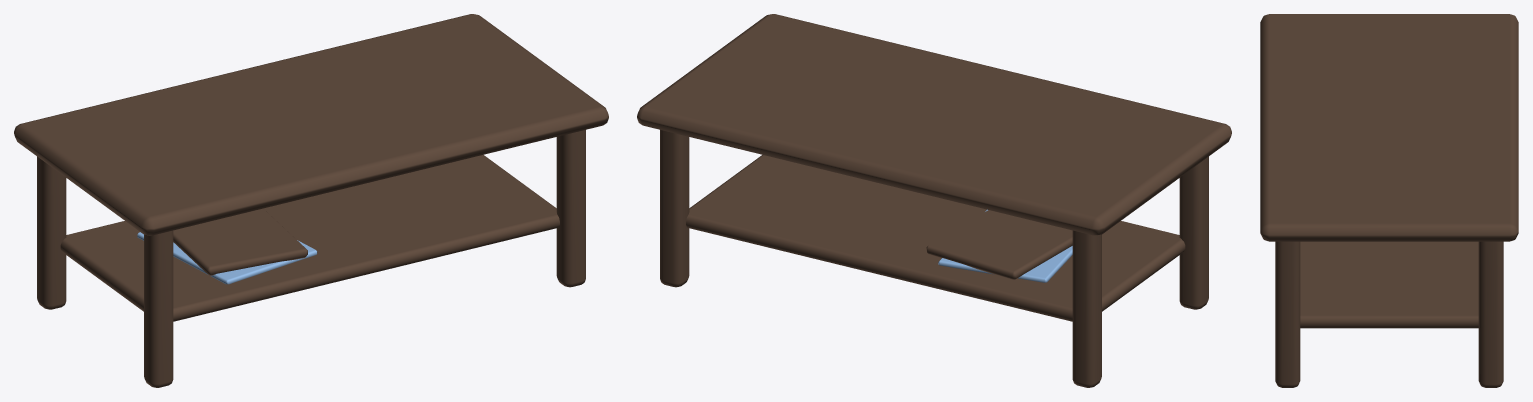
Rendered from coffee.glb.
3 renders of one model, left to right at view 1: azimuth 30°, elevation 25°; view 2: azimuth 150°, elevation 25°; view 3: azimuth 270°, elevation 25°, orthographic. The views are drawn at different scales.
Visible parts, largest first — view 1: coffee; view 2: coffee; view 3: coffee.
Part boxes in pixels (box(x1,y1,x2,y2)): coffee: box(14, 14, 608, 387); coffee: box(637, 14, 1231, 387); coffee: box(1260, 14, 1518, 387).
Bounding box in the file's own units: 1.11 × 0.4087 × 0.5587.
